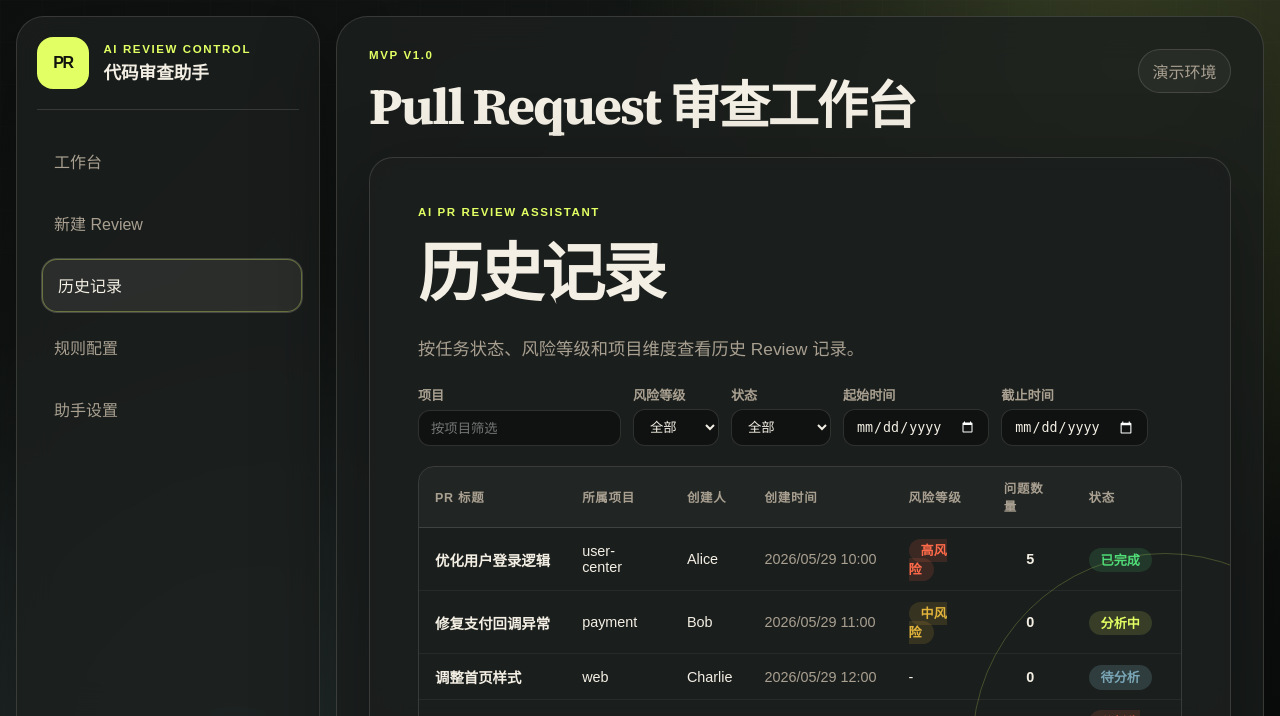
it: History records page › navigates to task detail on row click
The width and height of the screenshot is (1280, 716).
What coordinates should you click on to do the following:
click the text "优化用户登录逻辑"
I would click on:
 (493, 559)
Its box is [419,528,566,591].
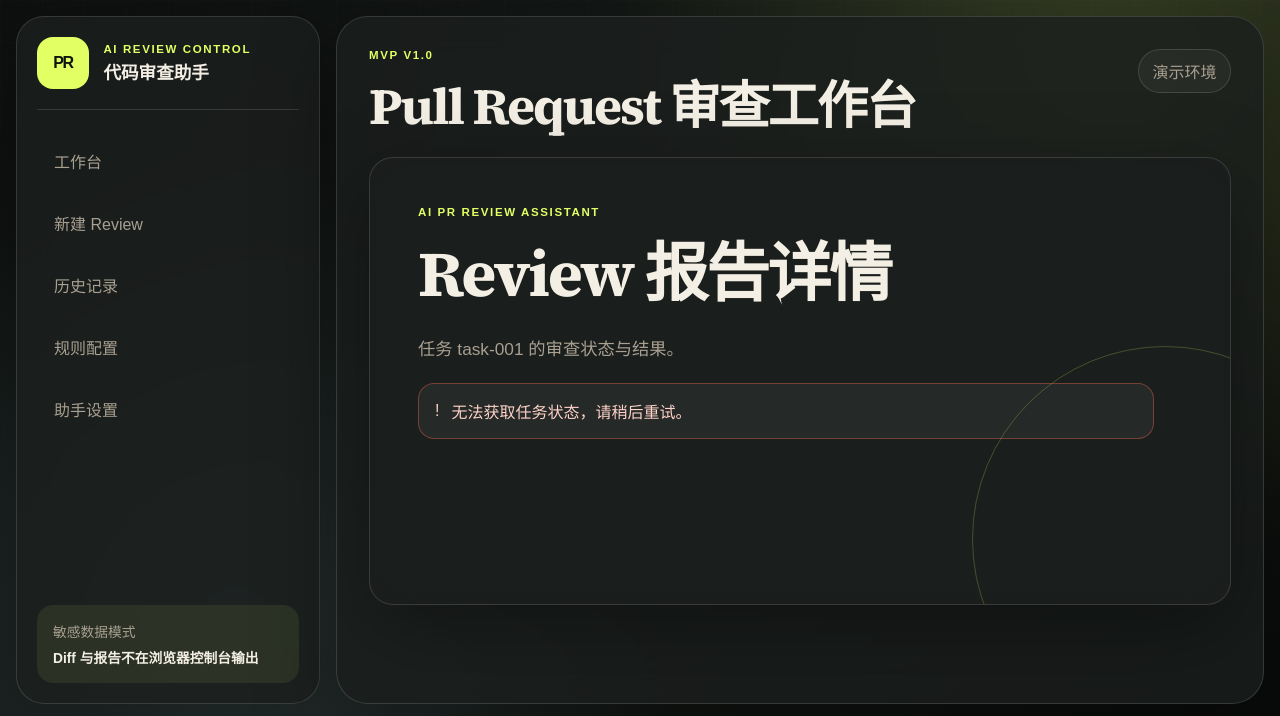
Expected: the heading "Review 报告详情" is shown, [418,230,890,317]
Expected: the text "任务 task-001 的审查状态与结果。" is shown, [418,339,684,359]
